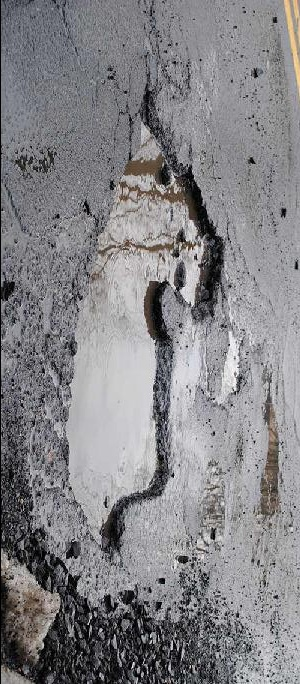pothole: (63, 86, 228, 553), (256, 384, 283, 516), (212, 330, 245, 408)
